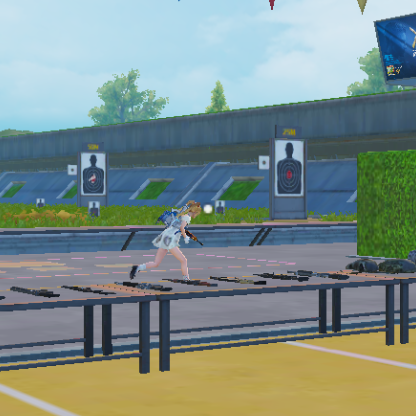ren: (139, 200, 202, 281)
tou: (185, 203, 201, 220)
